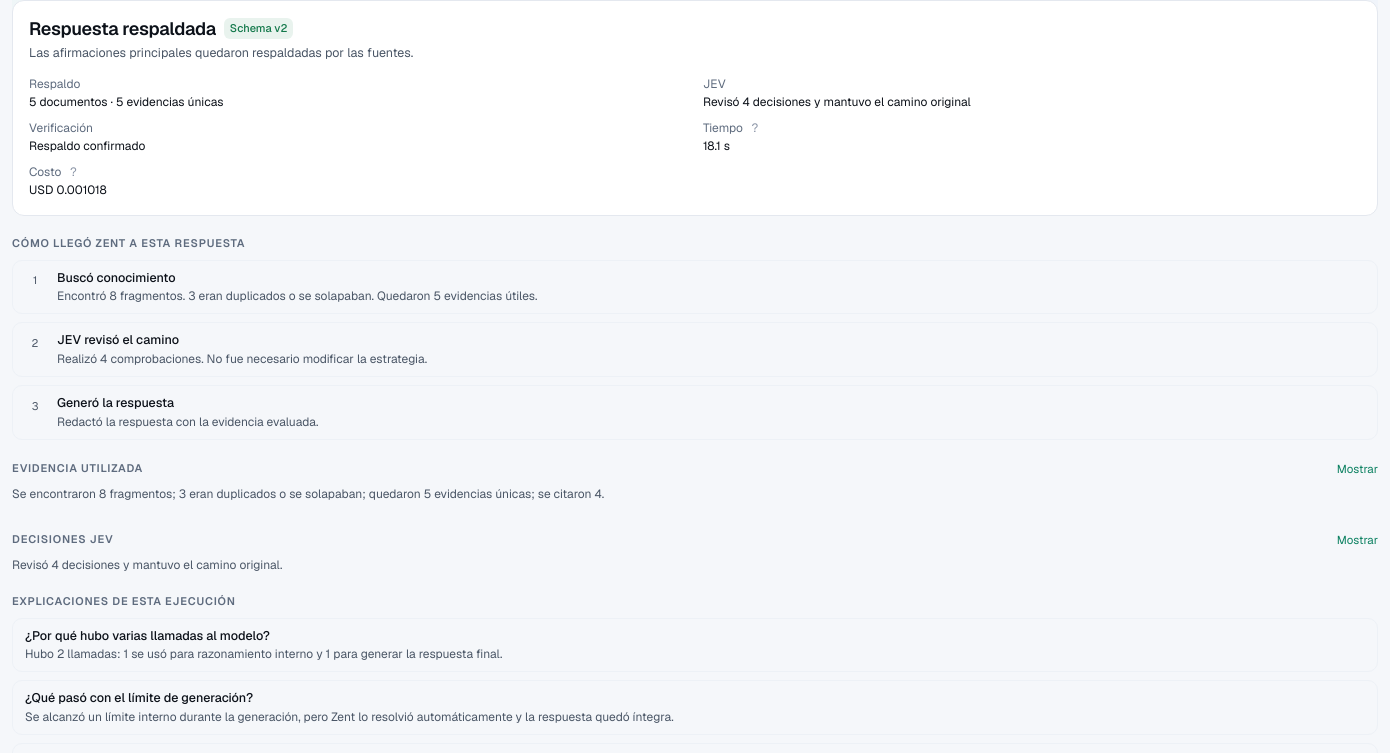
Test: TraceV2Story › abre la evidencia y marca las citadas
This screenshot has width=1390, height=753.
Step 1. Click the 1st text "Mostrar" → (1357, 468), box [1337,460,1378,477]
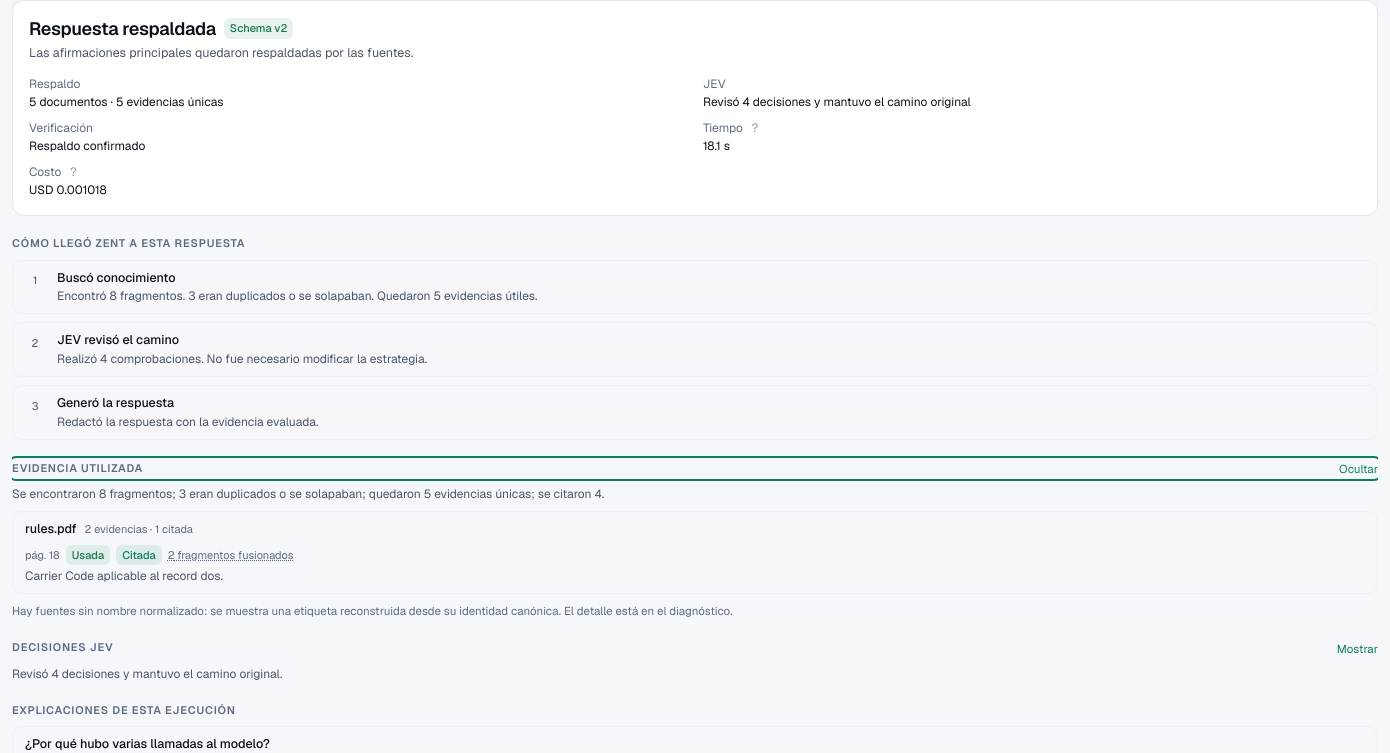
Check: the text "rules.pdf" is shown, box [25,520,77,539]
Check: the text "Citada" is shown, box [116,545,162,565]
Check: the text "Carrier Code aplicable al record dos." is shown, box [25,568,223,584]
